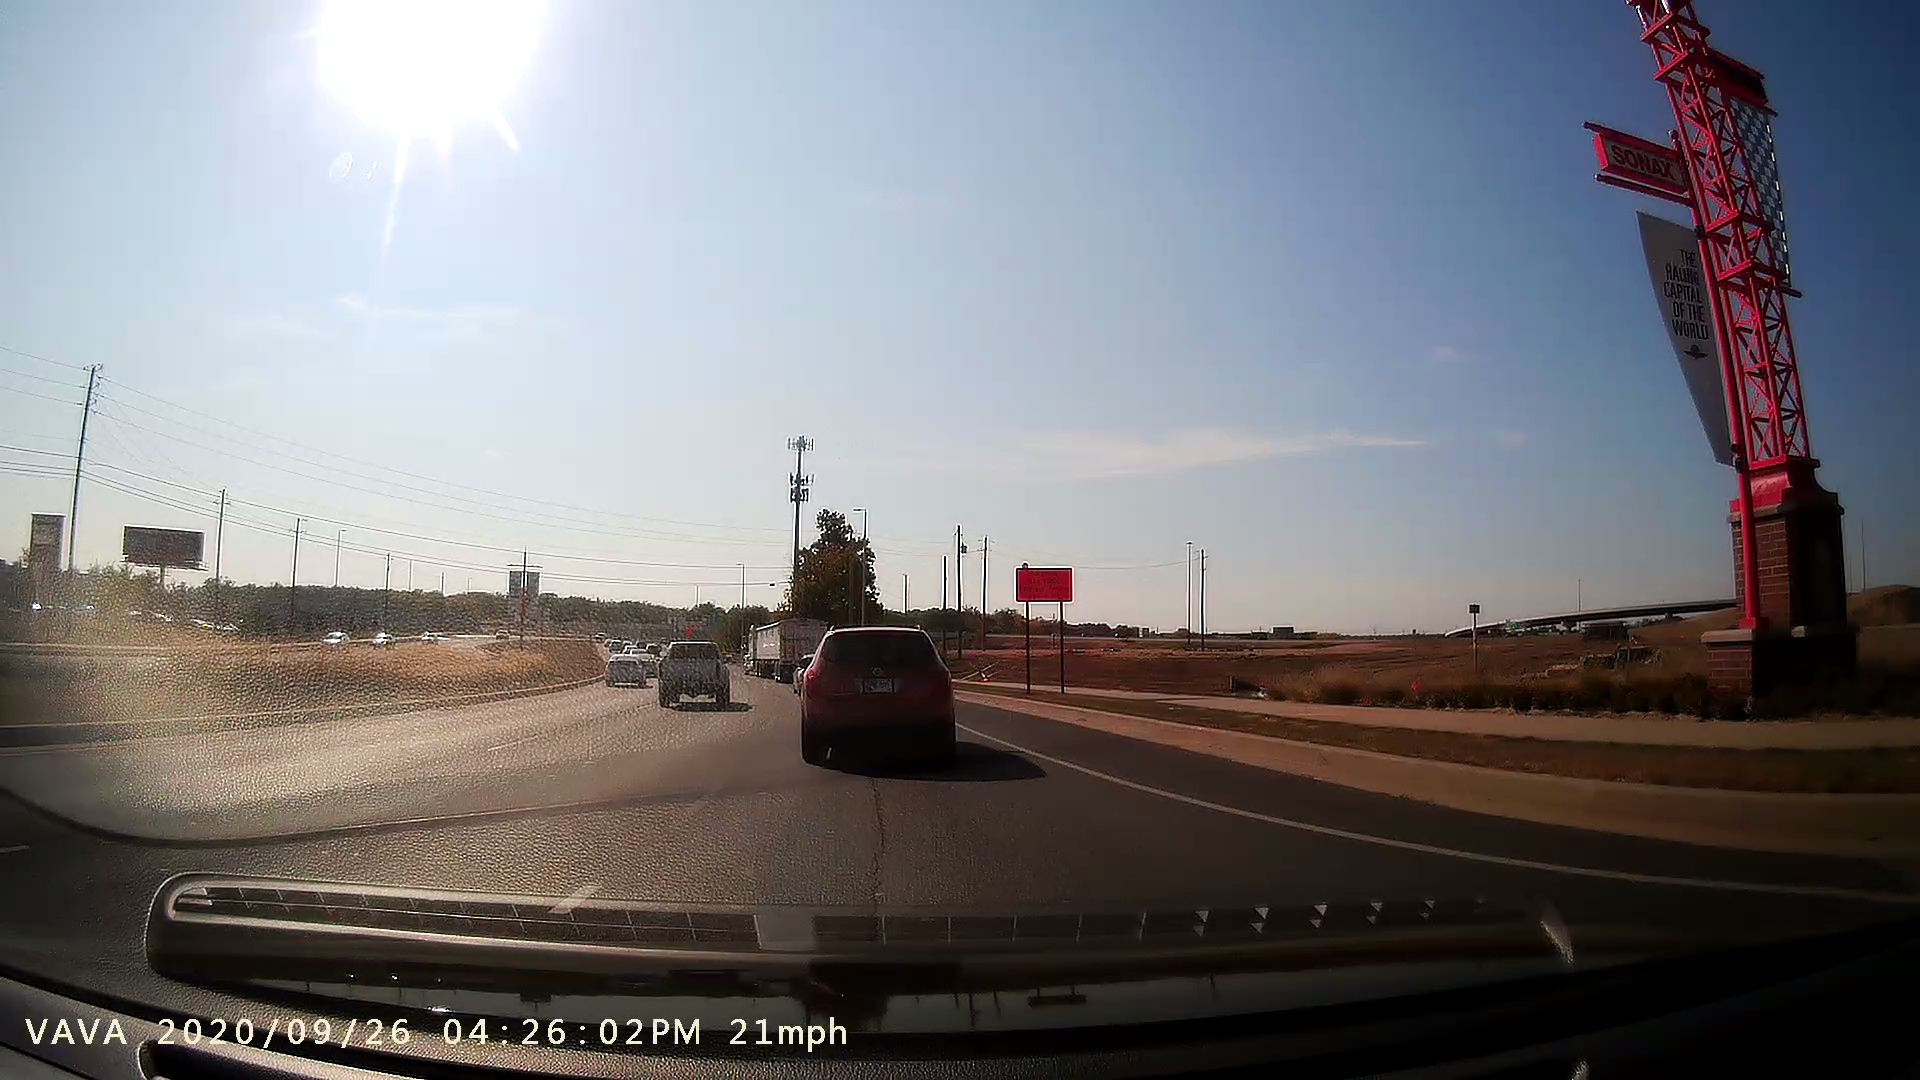temperary_sign: (1004, 553, 1089, 702)
